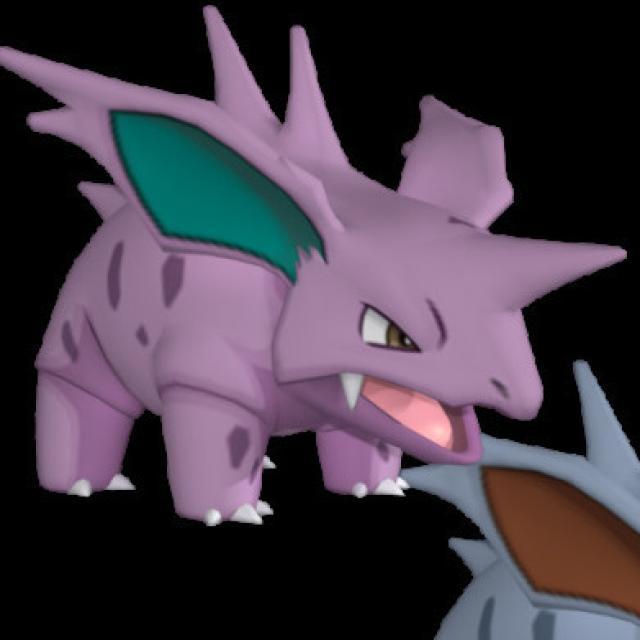Nidorino: (39, 92, 546, 492)
